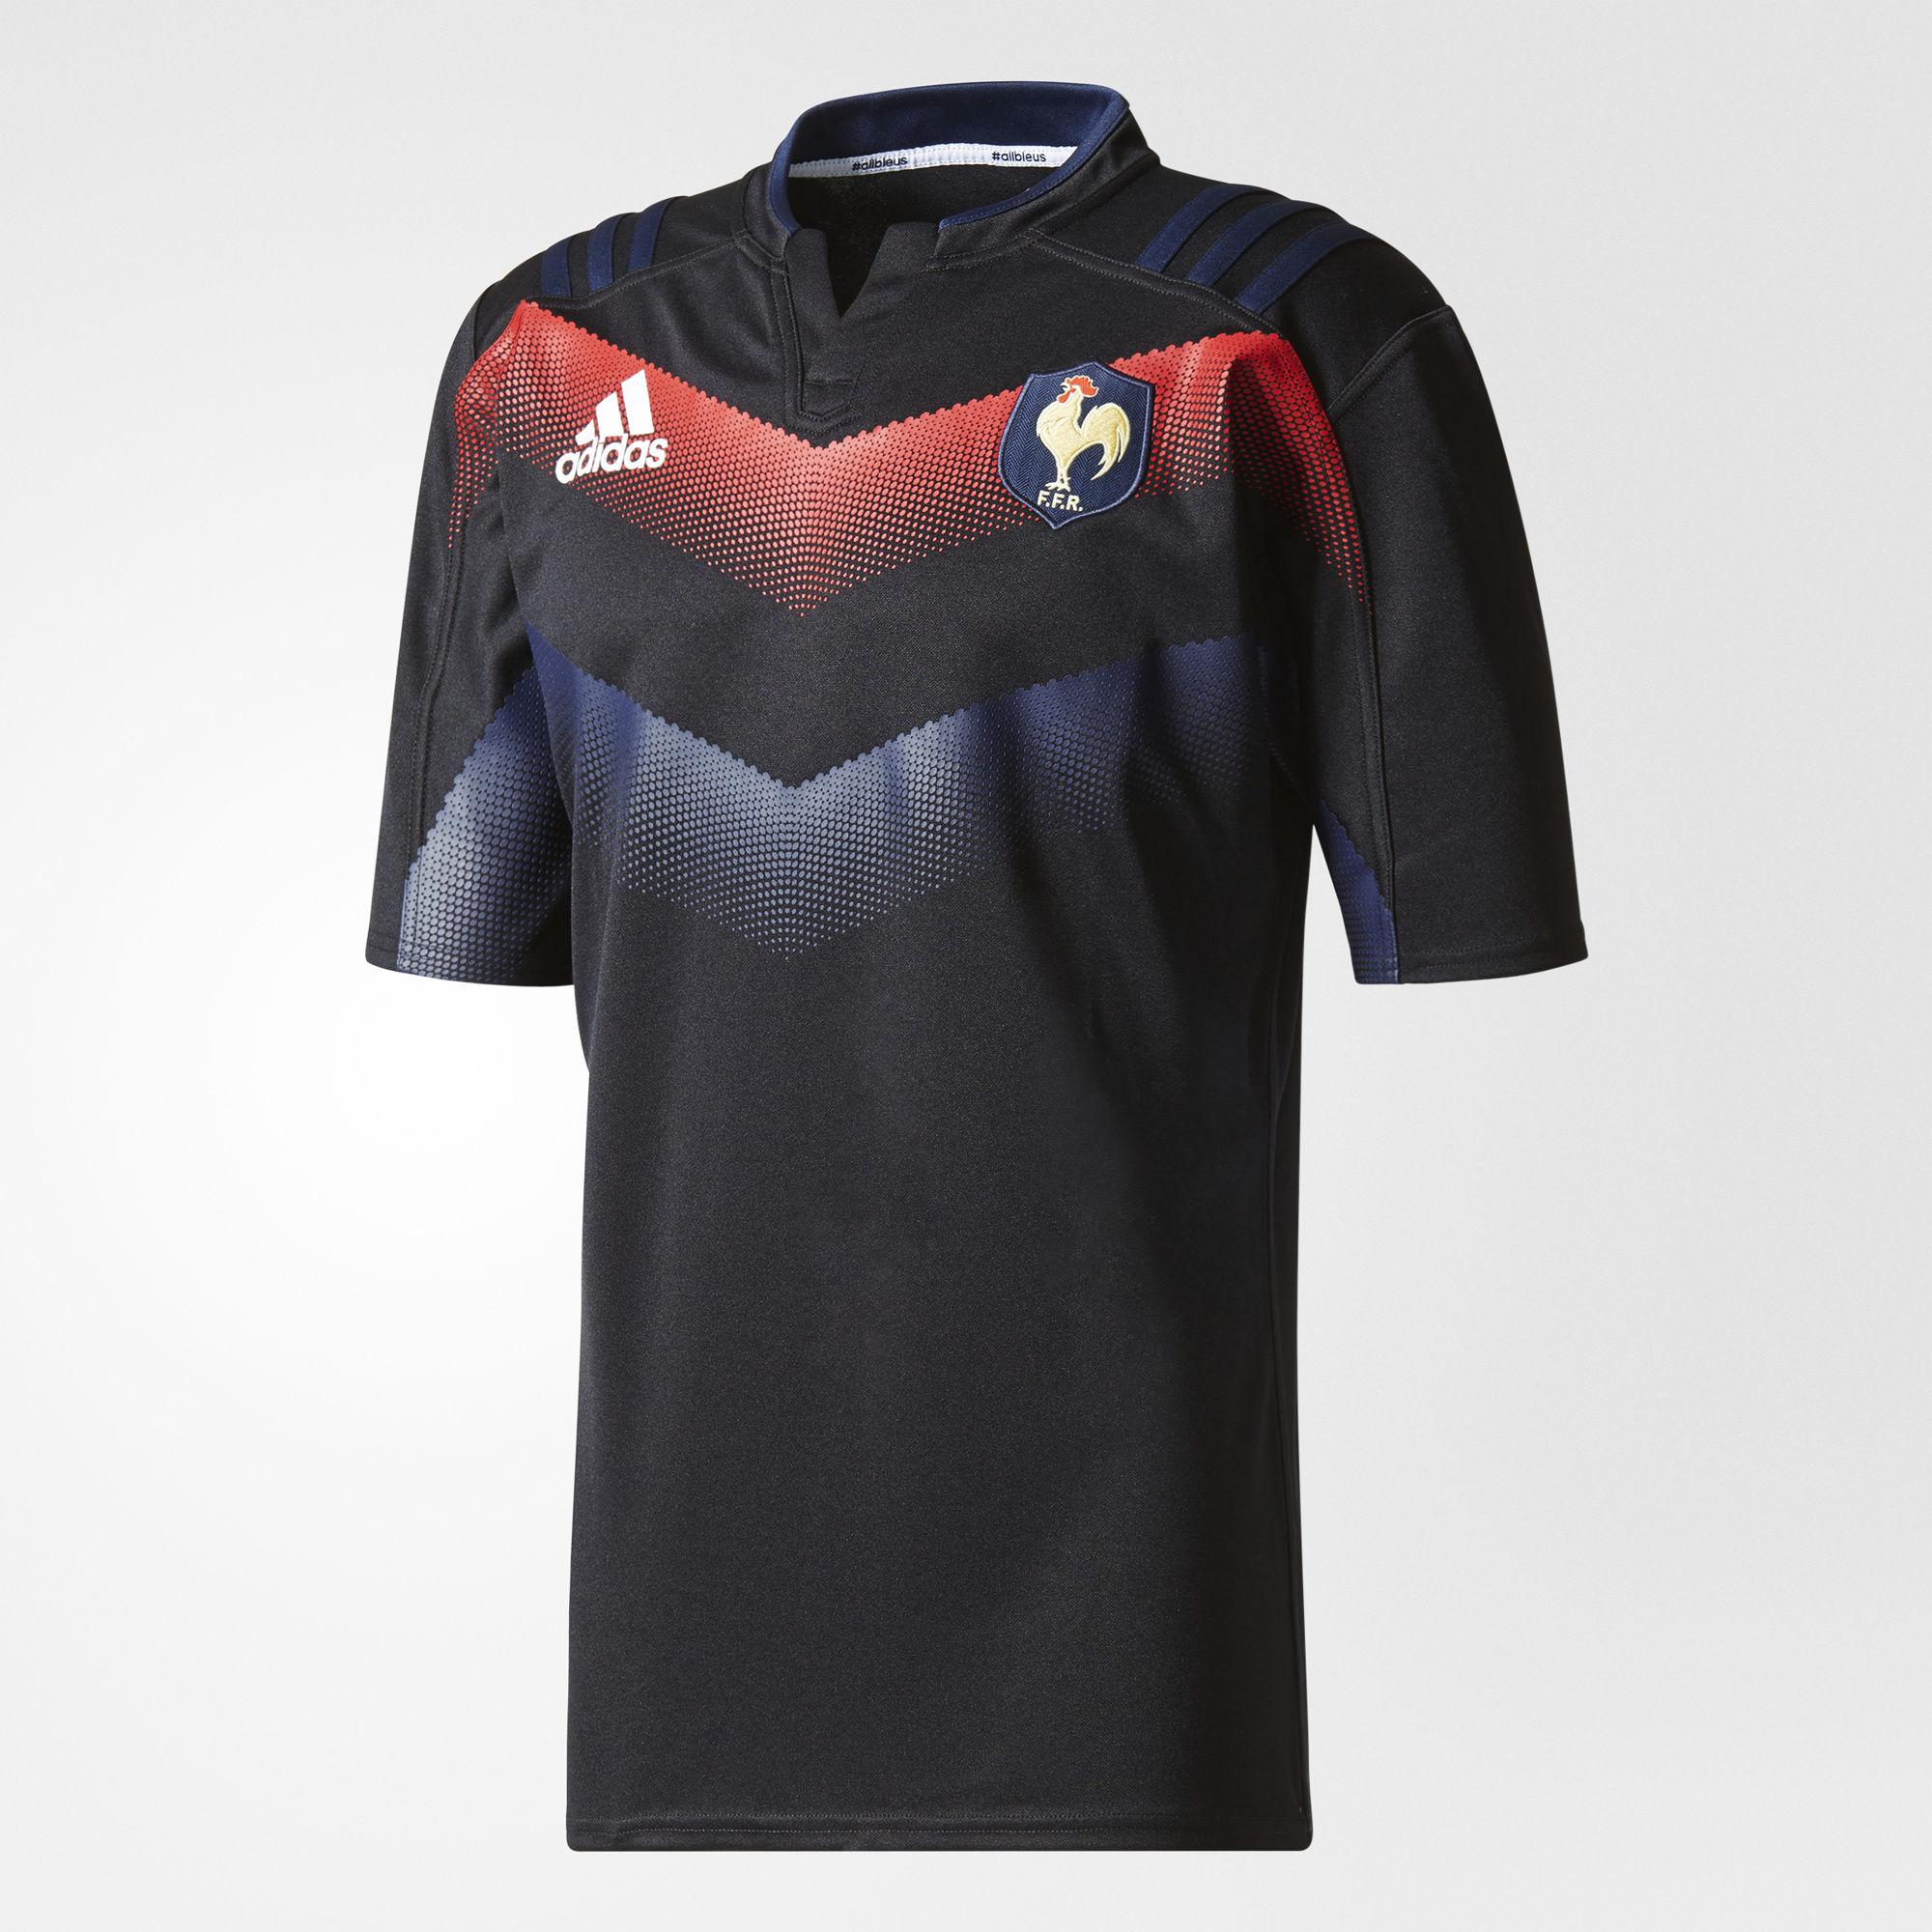teeshirt: (271, 81, 1652, 1902)
